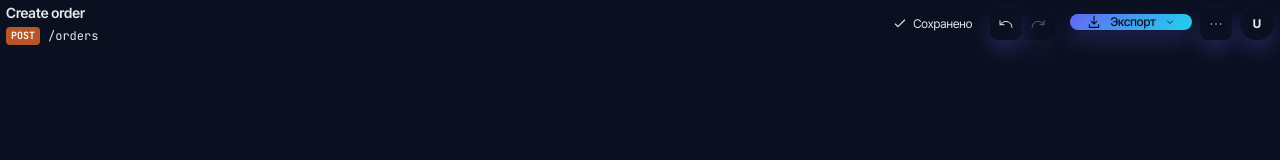
Scenario: WorkbenchTopbar › keeps profile auth controls without accent controls
This screenshot has width=1280, height=160.
Click the button named "User".
click(1257, 24)  # box [1240,8,1274,40]
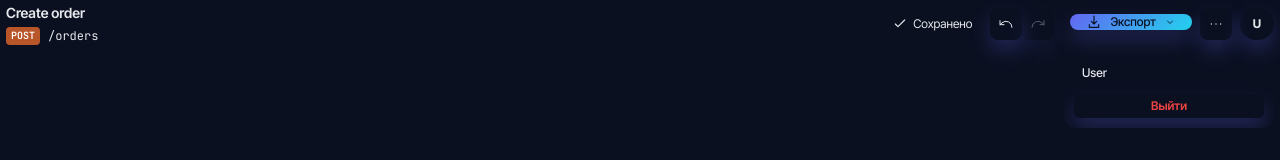
Check: the menu item "Выйти" is shown, box [1074,94,1264,118]
